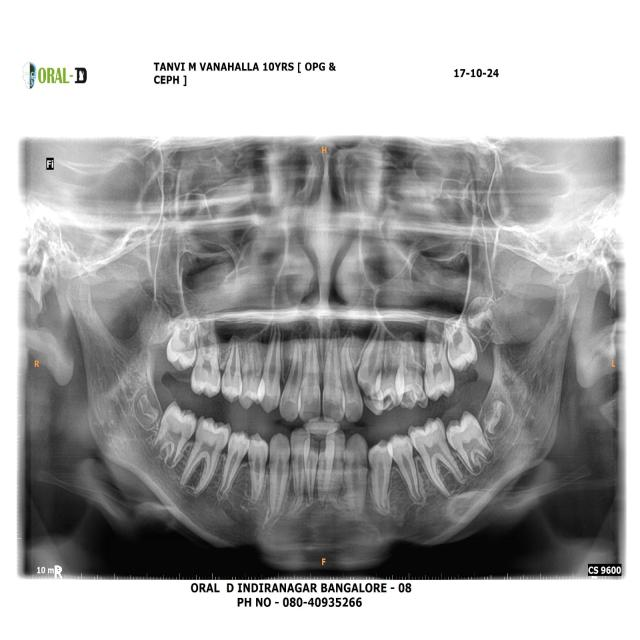Premolars: (386, 427, 424, 506), (366, 433, 395, 519)
